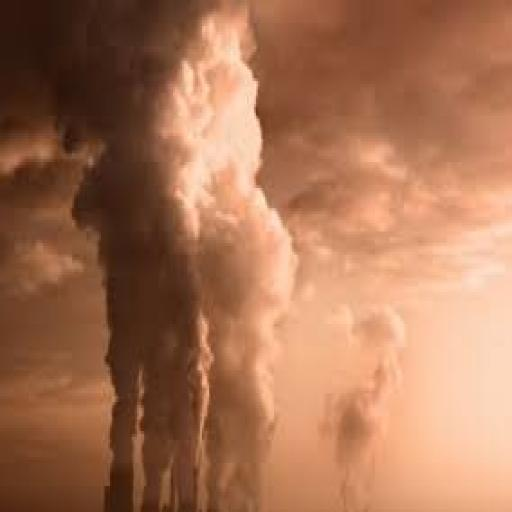smoke: (54, 9, 280, 483)
